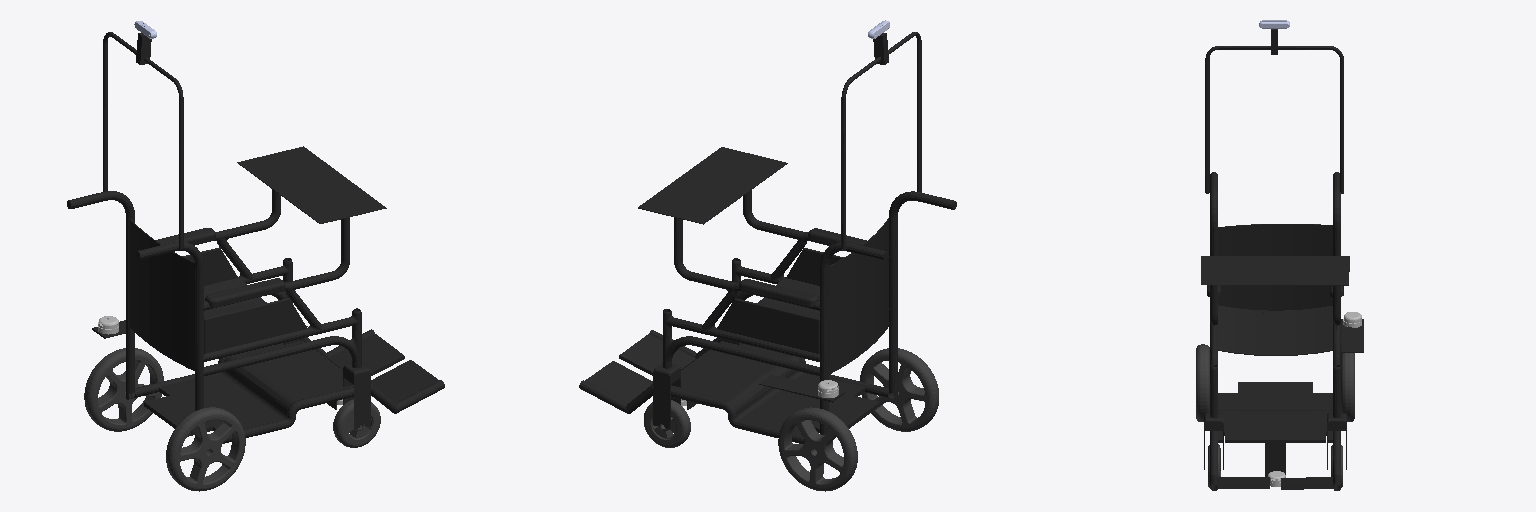
URDF robot description (wheel_chair):
<?xml version="1.0" encoding="utf-8"?>
<!-- This URDF was automatically created by SolidWorks to URDF Exporter! Originally created by [author] ([email redacted]) 
     Commit Version: 1.5.1-0-g916b5db  Build Version: 1.5.7152.31018
     For more information, please see http://wiki.ros.org/sw_urdf_exporter -->
<robot
  name="wheel_chair">
  <link
    name="base_link">
    <inertial>
      <origin
        xyz="0.367710115990865 0.00427594055759772 0.222806503300556"
        rpy="0 0 0" />
      <mass
        value="104.238834662291" />
      <inertia
        ixx="4.71175664250457"
        ixy="0.0385230868676068"
        ixz="1.0740814957226"
        iyy="7.70372211875449"
        iyz="0.0449177005185298"
        izz="4.26521836376027" />
    </inertial>
    <visual>
      <origin
        xyz="0 0 0"
        rpy="0 0 0" />
      <geometry>
        <mesh
          filename="package://wheel_chair/meshes/base_link.STL" />
      </geometry>
      <material
        name="">
        <color
          rgba="0.2 0.2 0.2 1" />
      </material>
    </visual>
    <collision>
      <origin
        xyz="0 0 0"
        rpy="0 0 0" />
      <geometry>
        <mesh
          filename="package://wheel_chair/meshes/base_link.STL" />
      </geometry>
    </collision>
  </link>
  <link
    name="left_big_wheel">
    <inertial>
      <origin
        xyz="8.32667268468867E-17 -0.0275 9.43689570931383E-16"
        rpy="0 0 0" />
      <mass
        value="3.19005851775017" />
      <inertia
        ixx="0.0222055020892376"
        ixy="2.73068863816006E-19"
        ixz="-2.79570503430672E-17"
        iyy="0.0429444812918596"
        iyz="-3.90098376880016E-20"
        izz="0.0222055020892377" />
    </inertial>
    <visual>
      <origin
        xyz="0 0 0"
        rpy="0 0 0" />
      <geometry>
        <mesh
          filename="package://wheel_chair/meshes/left_big_wheel.STL" />
      </geometry>
      <material
        name="">
        <color
          rgba="0.298039215686275 0.298039215686275 0.298039215686275 1" />
      </material>
    </visual>
    <collision>
      <origin
        xyz="0 0 0"
        rpy="0 0 0" />
      <geometry>
        <mesh
          filename="package://wheel_chair/meshes/left_big_wheel.STL" />
      </geometry>
    </collision>
  </link>
  <joint
    name="left_big_wheel_joint"
    type="continuous">
    <origin
      xyz="0 0.315 0"
      rpy="0 0 0" />
    <parent
      link="base_link" />
    <child
      link="left_big_wheel" />
    <axis
      xyz="0 -1 0" />
    <limit
      effort="1"
      velocity="1" />
  </joint>
  <link
    name="right_big_wheel">
    <inertial>
      <origin
        xyz="1.60982338570648E-15 0.0275 1.11022302462516E-15"
        rpy="0 0 0" />
      <mass
        value="3.19005851775018" />
      <inertia
        ixx="0.0222055020892377"
        ixy="-5.02793463534266E-19"
        ixz="-1.06280135567754E-17"
        iyy="0.0429444812918596"
        iyz="1.34367218703133E-19"
        izz="0.0222055020892377" />
    </inertial>
    <visual>
      <origin
        xyz="0 0 0"
        rpy="0 0 0" />
      <geometry>
        <mesh
          filename="package://wheel_chair/meshes/right_big_wheel.STL" />
      </geometry>
      <material
        name="">
        <color
          rgba="0.298039215686275 0.298039215686275 0.298039215686275 1" />
      </material>
    </visual>
    <collision>
      <origin
        xyz="0 0 0"
        rpy="0 0 0" />
      <geometry>
        <mesh
          filename="package://wheel_chair/meshes/right_big_wheel.STL" />
      </geometry>
    </collision>
  </link>
  <joint
    name="right_big_wheel_joint"
    type="continuous">
    <origin
      xyz="0 -0.315 0"
      rpy="0 0 0" />
    <parent
      link="base_link" />
    <child
      link="right_big_wheel" />
    <axis
      xyz="0 -1 0" />
    <limit
      effort="1"
      velocity="1" />
  </joint>
  <link
    name="left_small_wheel">
    <inertial>
      <origin
        xyz="-7.21644966006352E-16 -0.0400000000000002 0"
        rpy="0 0 0" />
      <mass
        value="1.31881639542862" />
      <inertia
        ixx="0.00307756206748821"
        ixy="-4.86196911723968E-19"
        ixz="1.29760768970133E-20"
        iyy="0.00569232821091254"
        iyz="1.99882167723138E-20"
        izz="0.00307756206748821" />
    </inertial>
    <visual>
      <origin
        xyz="0 0 0"
        rpy="0 0 0" />
      <geometry>
        <mesh
          filename="package://wheel_chair/meshes/left_small_wheel.STL" />
      </geometry>
      <material
        name="">
        <color
          rgba="0.298039215686275 0.298039215686275 0.298039215686275 1" />
      </material>
    </visual>
    <collision>
      <origin
        xyz="0 0 0"
        rpy="0 0 0" />
      <geometry>
        <mesh
          filename="package://wheel_chair/meshes/left_small_wheel.STL" />
      </geometry>
    </collision>
  </link>
  <joint
    name="left_small_wheel_joint"
    type="revolute">
    <origin
      xyz="0.64005 0.2835 -0.065"
      rpy="0 0 -0.0013615" />
    <parent
      link="base_link" />
    <child
      link="left_small_wheel" />
    <axis
      xyz="-0.0019131 1 0" />
    <limit
      lower="0"
      upper="0"
      effort="0"
      velocity="0" />
  </joint>
  <link
    name="right_smaal_wheel">
    <inertial>
      <origin
        xyz="0.000198873647039965 0.0399995056128514 2.22044604925031E-15"
        rpy="0 0 0" />
      <mass
        value="1.31881639542862" />
      <inertia
        ixx="0.00307762670242769"
        ixy="1.30000412990577E-05"
        ixz="-3.05847536861125E-19"
        iyy="0.00569226357597306"
        iyz="8.08608700453136E-20"
        izz="0.00307756206748821" />
    </inertial>
    <visual>
      <origin
        xyz="0 0 0"
        rpy="0 0 0" />
      <geometry>
        <mesh
          filename="package://wheel_chair/meshes/right_smaal_wheel.STL" />
      </geometry>
      <material
        name="">
        <color
          rgba="0.298039215686275 0.298039215686275 0.298039215686275 1" />
      </material>
    </visual>
    <collision>
      <origin
        xyz="0 0 0"
        rpy="0 0 0" />
      <geometry>
        <mesh
          filename="package://wheel_chair/meshes/right_smaal_wheel.STL" />
      </geometry>
    </collision>
  </link>
  <joint
    name="right_small_wheel_joint"
    type="revolute">
    <origin
      xyz="0.6398 -0.2835 -0.065"
      rpy="0 0 0" />
    <parent
      link="base_link" />
    <child
      link="right_smaal_wheel" />
    <axis
      xyz="0.0043627 0.99999 0" />
    <limit
      lower="0"
      upper="0"
      effort="0"
      velocity="0" />
  </joint>
  <link
    name="rp_laser_back">
    <inertial>
      <origin
        xyz="-0.00393393719392465 1.45541326387055E-05 -0.00550433759472346"
        rpy="0 0 0" />
      <mass
        value="0.165382757413928" />
      <inertia
        ixx="7.88186497400901E-05"
        ixy="4.81327415297136E-08"
        ixz="-1.82339073198479E-06"
        iyy="7.51902892774038E-05"
        iyz="-2.9420939238945E-08"
        izz="0.000109993288450695" />
    </inertial>
    <visual>
      <origin
        xyz="0 0 0"
        rpy="0 0 0" />
      <geometry>
        <mesh
          filename="package://wheel_chair/meshes/rp_laser_back.STL" />
      </geometry>
      <material
        name="">
        <color
          rgba="0.752941176470588 0.752941176470588 0.752941176470588 0.4" />
      </material>
    </visual>
    <collision>
      <origin
        xyz="0 0 0"
        rpy="0 0 0" />
      <geometry>
        <mesh
          filename="package://wheel_chair/meshes/rp_laser_back.STL" />
      </geometry>
    </collision>
  </link>
  <joint
    name="rp_laser_back_joint"
    type="fixed">
    <origin
      xyz="-0.048279 0.305 0.26099"
      rpy="0 0 -0.4" />
    <parent
      link="base_link" />
    <child
      link="rp_laser_back" />
    <axis
      xyz="0 0 0" />
  </joint>
  <link
    name="rp_laser_front">
    <inertial>
      <origin
        xyz="0.00386881875434386 8.69539989361567E-05 -0.00554963797433417"
        rpy="0 0 0" />
      <mass
        value="0.165382751635991" />
      <inertia
        ixx="7.88601133328312E-05"
        ixy="1.44763696263324E-07"
        ixz="2.18328573965282E-06"
        iyy="7.51953617715746E-05"
        iyz="8.61570136662877E-08"
        izz="0.000109946753058707" />
    </inertial>
    <visual>
      <origin
        xyz="0 0 0"
        rpy="0 0 0" />
      <geometry>
        <mesh
          filename="package://wheel_chair/meshes/rp_laser_front.STL" />
      </geometry>
      <material
        name="">
        <color
          rgba="0.752941176470588 0.752941176470588 0.752941176470588 0.4" />
      </material>
    </visual>
    <collision>
      <origin
        xyz="0 0 0"
        rpy="0 0 0" />
      <geometry>
        <mesh
          filename="package://wheel_chair/meshes/rp_laser_front.STL" />
      </geometry>
    </collision>
  </link>
  <joint
    name="rp_laser_front_joint"
    type="fixed">
    <origin
      xyz="0.72155 0.0046595 -0.074152"
      rpy="0 0 -0.0013615" />
    <parent
      link="base_link" />
    <child
      link="rp_laser_front" />
    <axis
      xyz="0 0 0" />
  </joint>
  <link
    name="camera_link">
    <inertial>
      <origin
        xyz="-0.0128303971236894 0.00026345822416235 0.00120890752799729"
        rpy="0 0 0" />
      <mass
        value="0.0247927922484064" />
      <inertia
        ixx="3.56506588599453E-05"
        ixy="-1.15721449744488E-08"
        ixz="-1.82266916058428E-07"
        iyy="2.84011177762109E-06"
        iyz="2.78716575004723E-08"
        izz="3.35091990190486E-05" />
    </inertial>
    <visual>
      <origin
        xyz="0 0 0"
        rpy="0 0 0" />
      <geometry>
        <mesh
          filename="package://wheel_chair/meshes/camera.STL" />
      </geometry>
      <material
        name="">
        <color
          rgba="0.792156862745098 0.819607843137255 0.933333333333333 1" />
      </material>
    </visual>
    <collision>
      <origin
        xyz="0 0 0"
        rpy="0 0 0" />
      <geometry>
        <mesh
          filename="package://wheel_chair/meshes/camera.STL" />
      </geometry>
    </collision>
  </link>
  <joint
    name="camera_joint"
    type="fixed">
    <origin
      xyz="-0.066986 -0.0039691 1.5345"
      rpy="0 0 0" />
    <parent
      link="base_link" />
    <child
      link="camera_link" />
    <axis
      xyz="0 0 0" />
    <limit
      lower="0"
      upper="0"
      effort="0"
      velocity="0" />
  </joint>
  
  <joint name="camera_depth_joint" type="fixed">
    <origin xyz="0 0 0" rpy="0 0 0"/>
    <parent link="camera_link"/>
    <child link="camera_depth_frame" />
  </joint>
  <link name="camera_depth_frame"/>

  <joint name="camera_depth_optical_joint" type="fixed">
    <origin xyz="0 0 0" rpy="-1.57079632679 0 -1.57079632679" />
    <parent link="camera_depth_frame" />
    <child link="camera_depth_optical_frame" />
  </joint>
  <link name="camera_depth_optical_frame"/>

  <!-- camera left IR joints and links -->
  <joint name="camera_infra1_joint" type="fixed">
    <origin xyz="0 0 0" rpy="0 0 0" />
    <parent link="camera_link" />
    <child link="camera_infra1_frame" />
  </joint>
  <link name="camera_infra1_frame"/>

  <joint name="camera_infra1_optical_joint" type="fixed">
    <origin xyz="0 0 0" rpy="-1.57079632679 0 -1.57079632679" />
    <parent link="camera_infra1_frame" />
    <child link="camera_infra1_optical_frame" />
  </joint>
  <link name="camera_infra1_optical_frame"/>

  <!-- camera right IR joints and links -->
  <joint name="camera_infra2_joint" type="fixed">
    <origin xyz="0 -0.095 0" rpy="0 0 0" />
    <parent link="camera_link" />
    <child link="camera_infra2_frame" />
  </joint>
  <link name="camera_infra2_frame"/>

  <joint name="camera_infra2_optical_joint" type="fixed">
    <origin xyz="0 0 0" rpy="-1.57079632679 0 -1.57079632679" />
    <parent link="camera_infra2_frame" />
    <child link="camera_infra2_optical_frame" />
  </joint>
  <link name="camera_infra2_optical_frame"/>

  <!-- camera color joints and links -->
  <joint name="camera_color_joint" type="fixed">
    <origin xyz="0 -0.059 0" rpy="0 0 0" />
    <parent link="camera_link" />
    <child link="camera_color_frame" />
  </joint>
  <link name="camera_color_frame"/>

  <joint name="camera_color_optical_joint" type="fixed">
    <origin xyz="0 0 0" rpy="-1.57079632679 0 -1.57079632679" />
    <parent link="camera_color_frame" />
    <child link="camera_color_optical_frame" />
  </joint>
  <link name="camera_color_optical_frame"/>

  <link name="camera_accel_frame" />
  <link name="camera_accel_optical_frame" />
  <link name="camera_gyro_frame" />
  <link name="camera_gyro_optical_frame" />
  <link name="camera_imu_optical_frame" />

<!-- IMU -->
  <!-- see datasheet Revision 009, page 114 -->
  <!--xacro:property name="d455_imu_px" value="-0.01602"/>
  <xacro:property name="d455_imu_py" value="-0.03022"/>
  <xacro:property name="d455_imu_pz" value="+0.0074"/-->

  <joint name="camera_accel_joint" type="fixed">
    <origin xyz = "-0.01602 -0.03022 +0.0074" rpy = "0 0 0" />
    <parent link="camera_link" />
    <child link="camera_accel_frame" />
  </joint>

  <joint name="camera_accel_optical_joint" type="fixed">
    <origin xyz = "0 0 0" rpy = "-1.57 0 -1.57" />
    <parent link="camera_accel_frame" />
    <child link="camera_accel_optical_frame" />
  </joint>

  <joint name="camera_gyro_joint" type="fixed">
    <origin xyz = "-0.01602 -0.03022 +0.0074" rpy = "0 0 0" />
    <parent link="camera_link" />
    <child link="camera_gyro_frame" />
  </joint>

  <joint name="camera_gyro_optical_joint" type="fixed">
    <origin xyz = "0 0 0" rpy = "-1.57 0 -1.57" />
    <parent link="camera_gyro_frame" />
    <child link="camera_gyro_optical_frame" />
  </joint>

  <joint name="camera_imu_optical_joint" type="fixed">
    <origin xyz = "0 0 0" rpy = "0 0 0" />
    <parent link="camera_gyro_optical_frame" />
    <child link="camera_imu_optical_frame" />
  </joint>

</robot>

--- Facts derived from the render (not from the file) ---
Views: 3 orthographic renders of the robot side by side, from view 1: azimuth 30°, elevation 25°; view 2: azimuth 150°, elevation 25°; view 3: azimuth 270°, elevation 25°.
Model wheel_chair with 21 links and 20 joints (2 revolute, 2 continuous, 16 fixed), rooted at base_link, posed every joint at zero.
Visible links, largest first — view 1: base_link, right_big_wheel, left_big_wheel, right_smaal_wheel; view 2: base_link, left_big_wheel, right_big_wheel, left_small_wheel; view 3: base_link, right_big_wheel, left_big_wheel.
Link boxes in pixels (x1=…): base_link: x1=67, y1=32, x2=444, y2=443; right_big_wheel: x1=166, y1=407, x2=245, y2=491; left_big_wheel: x1=84, y1=348, x2=163, y2=431; right_smaal_wheel: x1=333, y1=399, x2=380, y2=447; base_link: x1=579, y1=32, x2=956, y2=443; left_big_wheel: x1=778, y1=407, x2=857, y2=491; right_big_wheel: x1=860, y1=348, x2=938, y2=431; left_small_wheel: x1=644, y1=400, x2=690, y2=447; base_link: x1=1201, y1=29, x2=1363, y2=490; right_big_wheel: x1=1196, y1=344, x2=1209, y2=421; left_big_wheel: x1=1341, y1=353, x2=1354, y2=421.
Size in the robot's own frame: 1.24 by 0.665 by 1.7 metres.
8 mesh visuals loaded from 8 distinct referenced files (8 binary STL).
